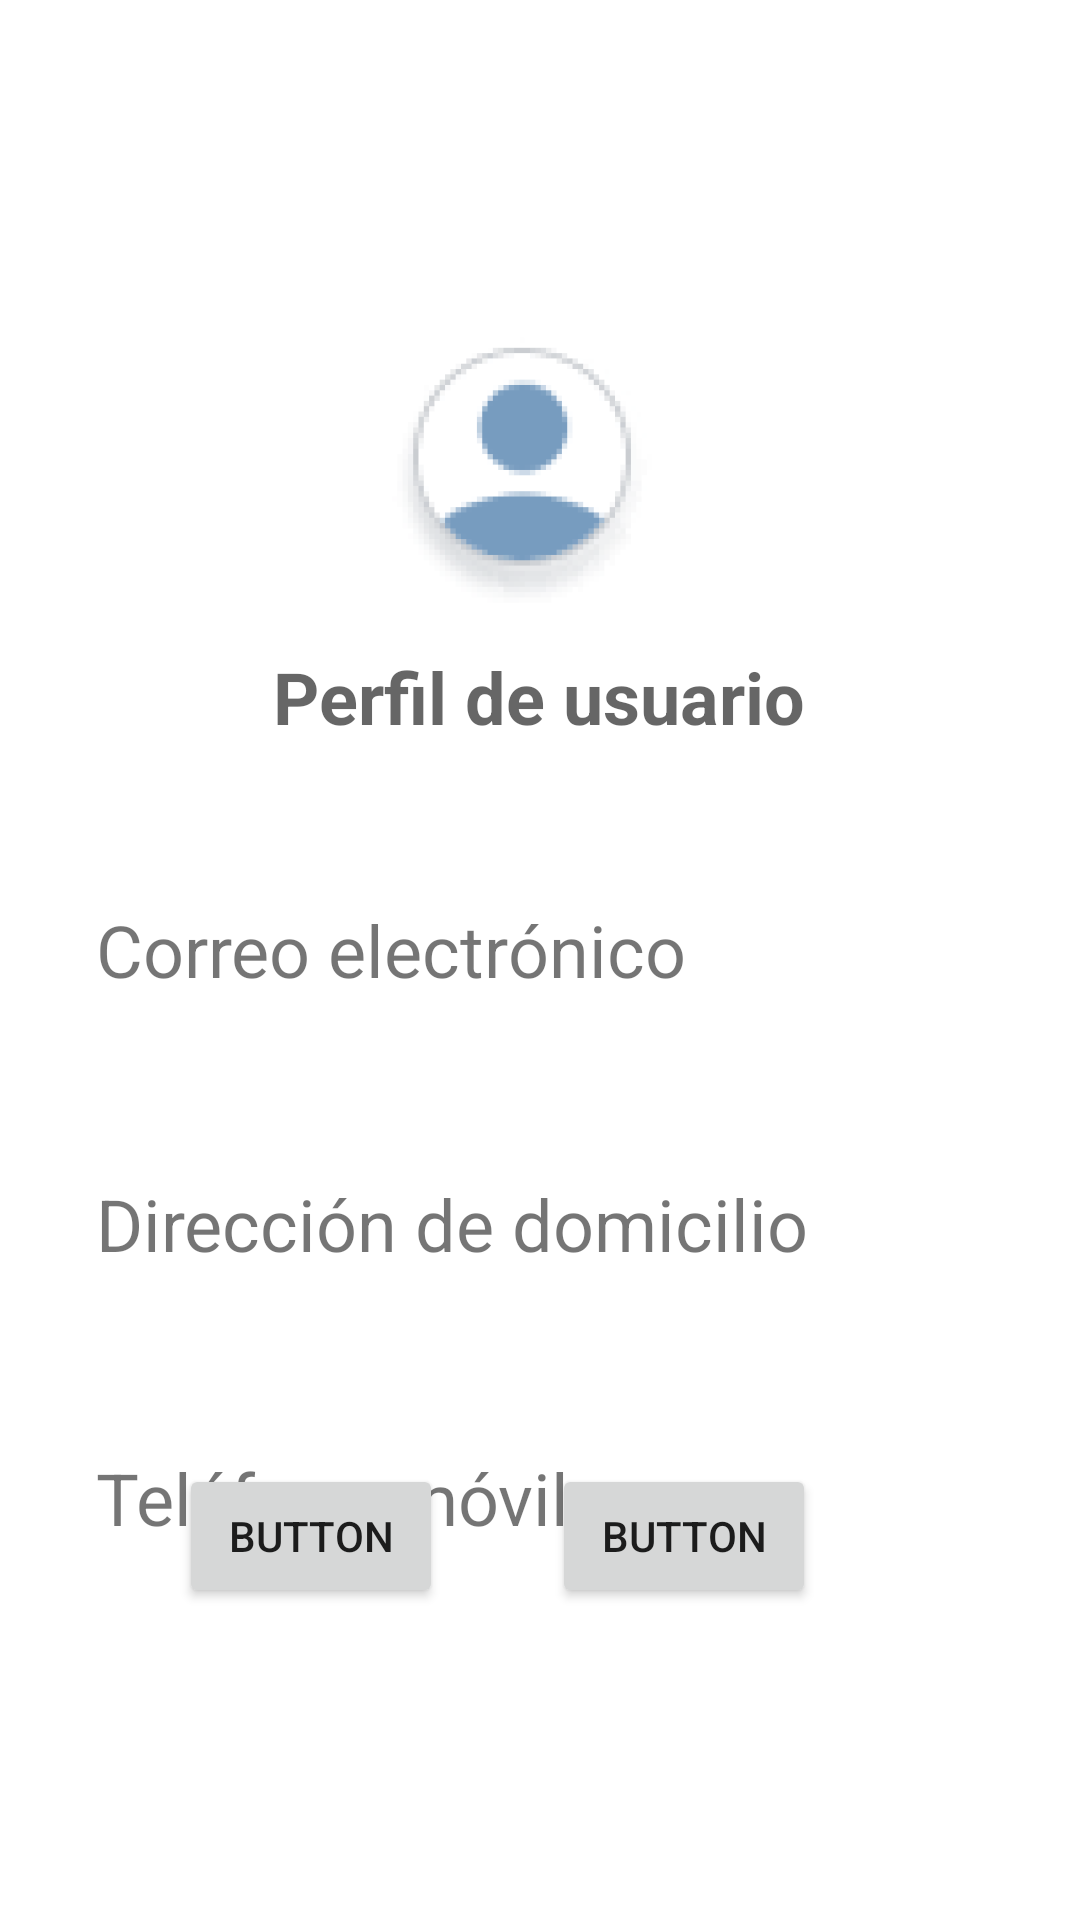

Named icons in this screenshot (1080 × 1920) and their bounding boxes, (left=x1, top=y1, right=x2, bottom=y2):
usuarios: (left=413, top=348, right=631, bottom=586)
